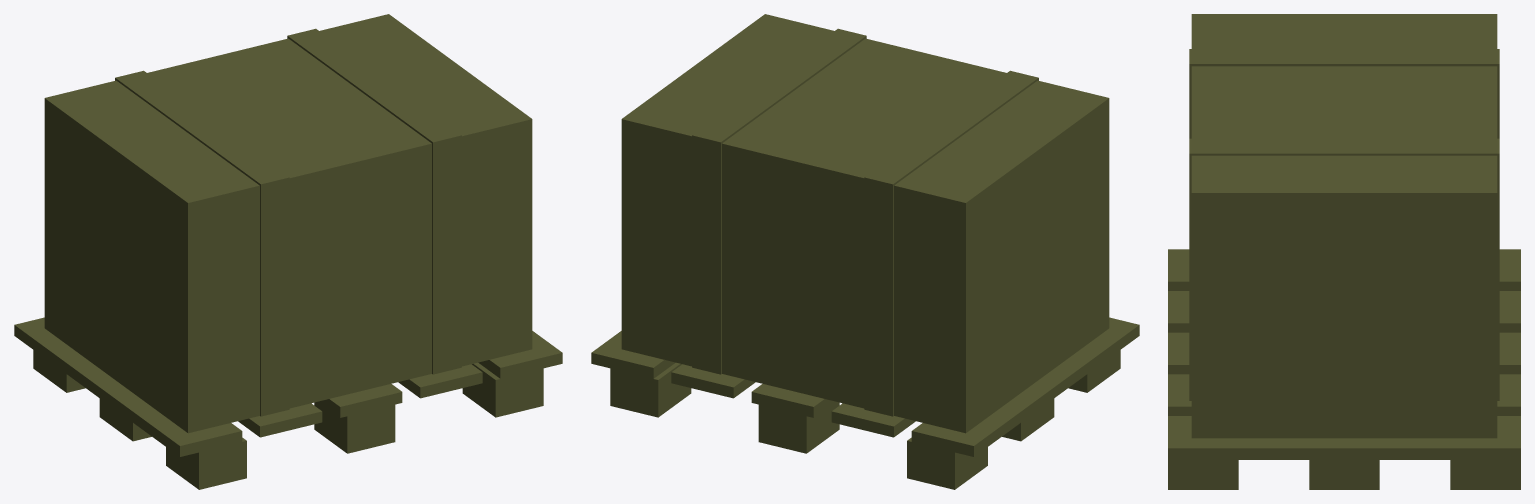
File: parcel100.obj
The picture shows the model from 3 angles, left to right: view 1: azimuth 30°, elevation 25°; view 2: azimuth 150°, elevation 25°; view 3: azimuth 270°, elevation 25°; orthographic projection. The views are drawn at different scales.
Parts seen in each view (by area): view 1: parcel100; view 2: parcel100; view 3: parcel100.
Part boxes in pixels (x1=…): parcel100: x1=14, y1=14, x2=562, y2=489; parcel100: x1=591, y1=14, x2=1139, y2=489; parcel100: x1=1168, y1=14, x2=1520, y2=489.
Bounding box in the file's own units: 0.8 × 0.561 × 0.6.
